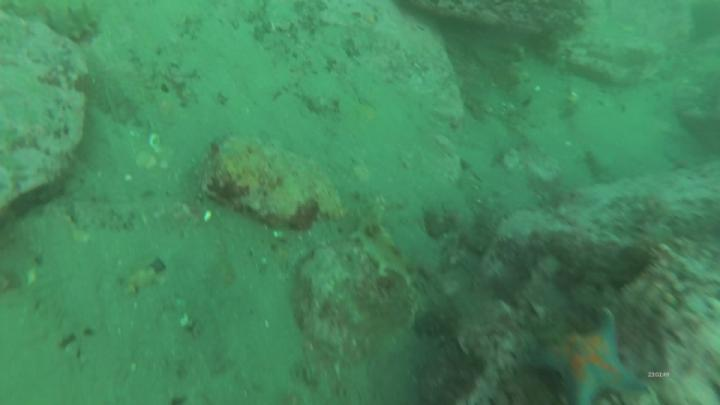holothurian: (359, 202, 421, 287)
starfish: (531, 308, 646, 405)
